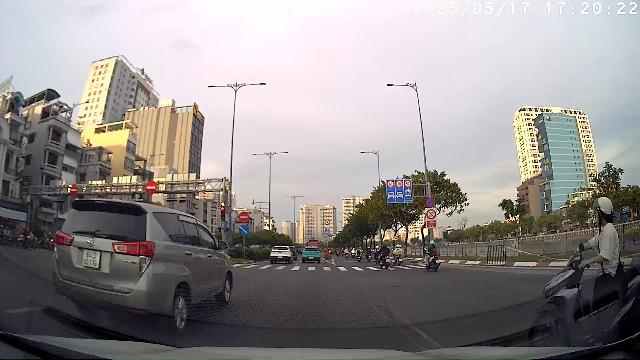127-toc-do-toi-da-50: (404, 180, 411, 187)
127-toc-do-toi-da-60: (396, 180, 403, 188), (387, 181, 395, 188)
130-cam-dung-va-do-xe: (426, 197, 436, 207)
